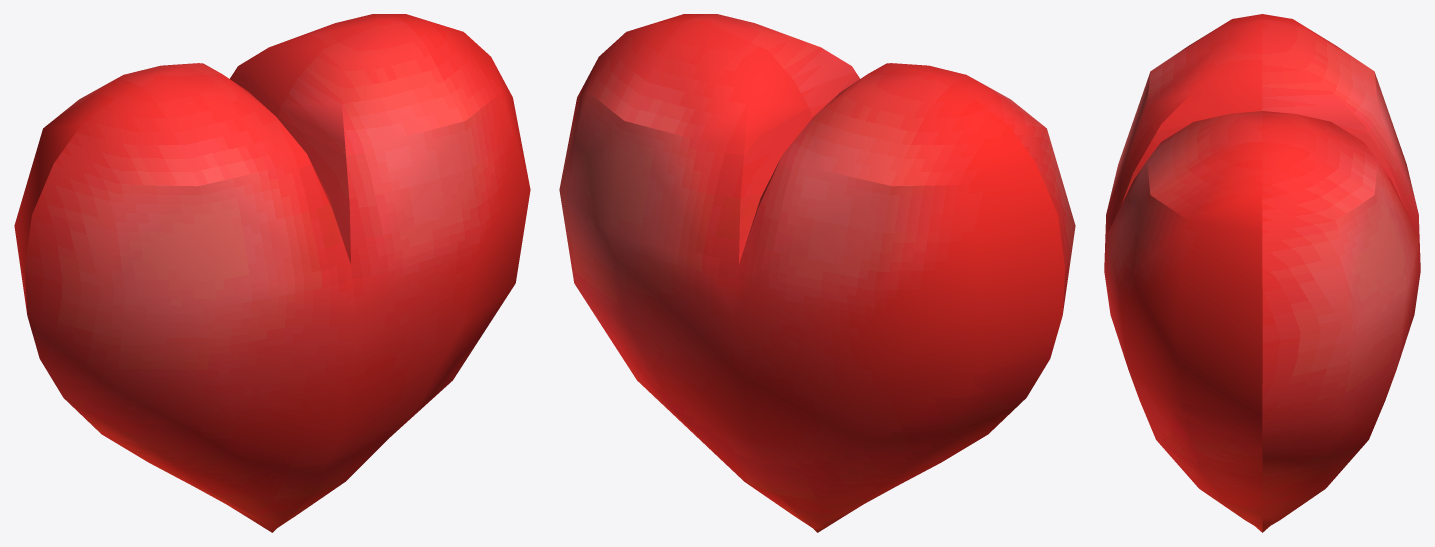
The model's file is heart.FBX.
3 views of the same model, side by side, from view 1: azimuth 30°, elevation 25°; view 2: azimuth 150°, elevation 25°; view 3: azimuth 270°, elevation 25° (orthographic). The views are drawn at different scales.
Visible parts, largest first — view 1: default; view 2: default; view 3: default.
Part boxes in pixels (box(x1,y1,x2,y2)): default: box(14, 14, 530, 532); default: box(559, 14, 1075, 532); default: box(1104, 14, 1420, 532).
Size of the model in its own units: 2.91 by 1.71 by 2.72.
Materials: 1 (1 with a texture image).
